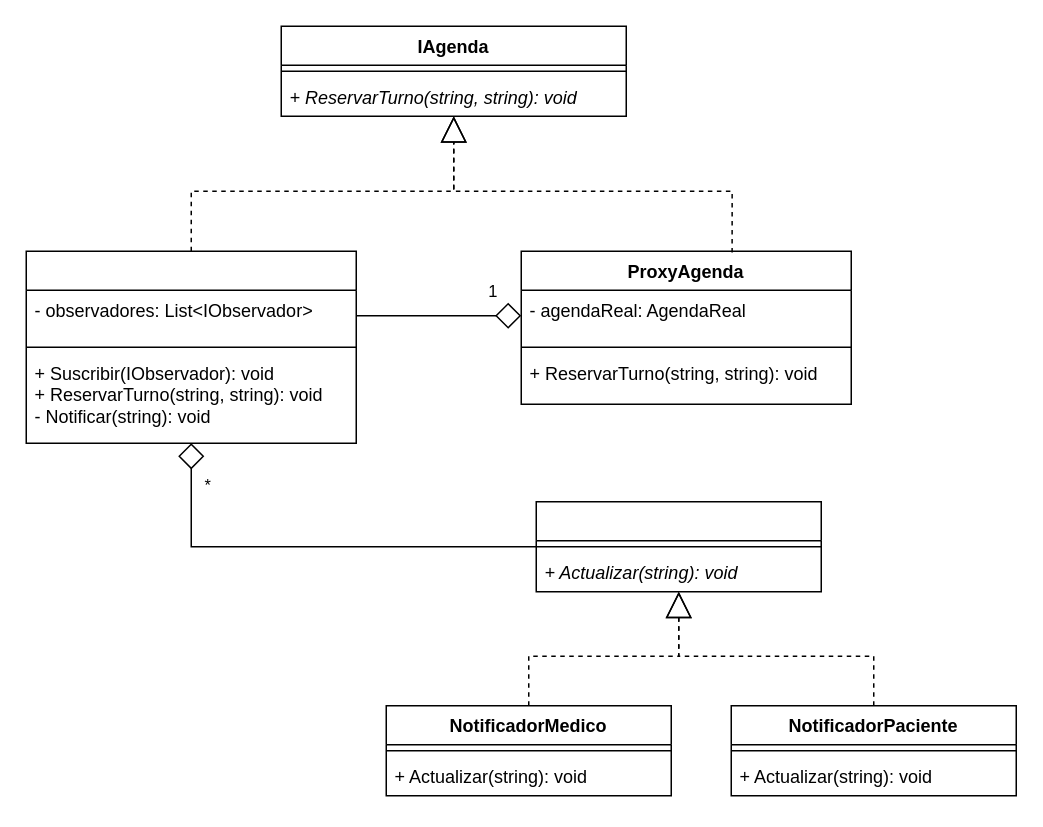
Some shapes in this 1043 by 827 pixel diagram are drawn without their labels. The box of each missing label's shape, as (x1, y1, x2, y2) in pixels:
AgendaReal: (25, 250, 356, 443)
IObservador: (535, 500, 821, 592)
